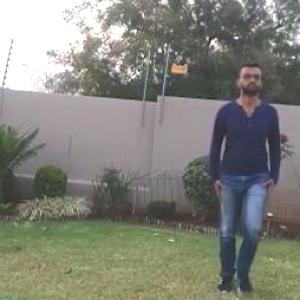follow: (192, 51, 284, 299)
